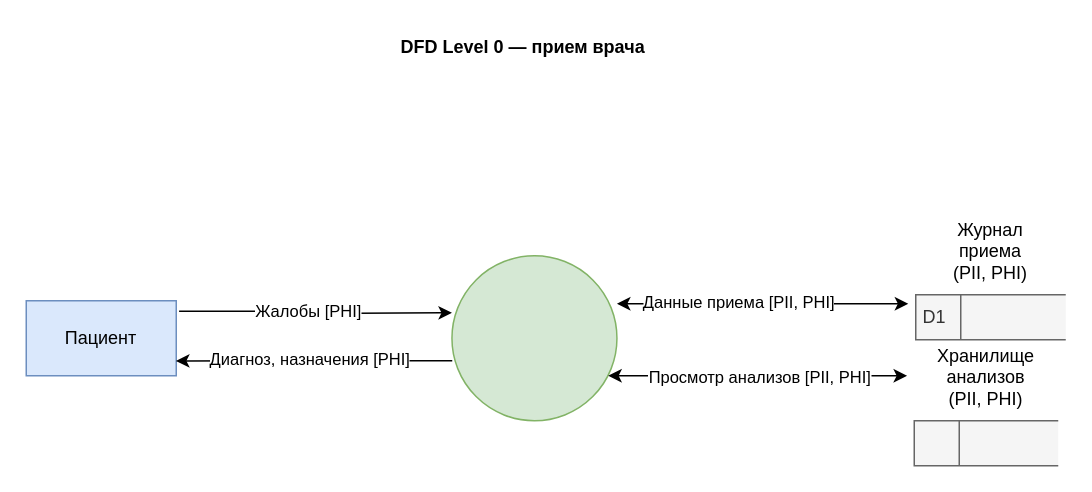
This 1092x492 diagram has some shape labels left out. Here are the shapes that lost their labels. From the top down, the centre of each, then its label:
(x=533, y=337): Прием врача
(x=985, y=442): D2
